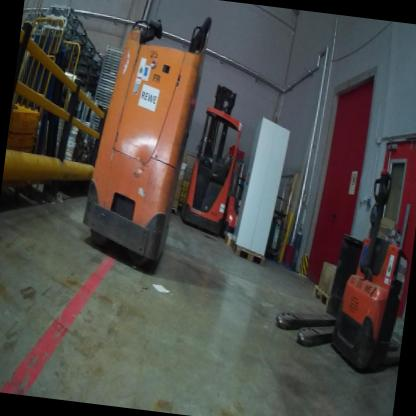forklift: (179, 71, 252, 251)
pallet: (226, 239, 270, 265), (310, 281, 331, 306), (221, 231, 234, 252), (169, 203, 177, 223)
pallet_truck: (71, 0, 215, 286), (331, 160, 416, 374), (270, 213, 374, 357), (222, 159, 253, 243)
